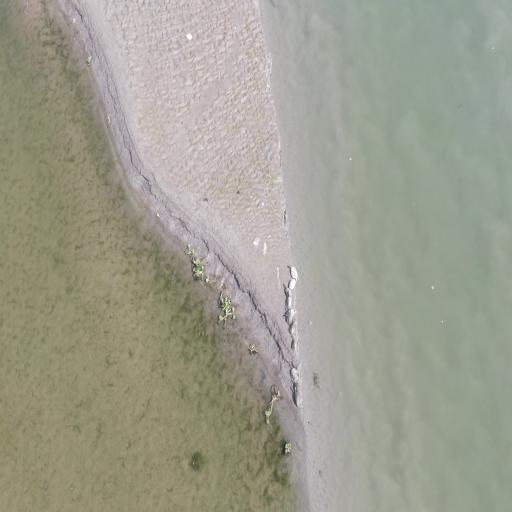turtle: (292, 386, 300, 408), (290, 263, 300, 280), (286, 305, 294, 325), (289, 365, 301, 378), (289, 274, 297, 293), (291, 332, 298, 352), (284, 282, 293, 296), (288, 320, 297, 334), (286, 290, 292, 309), (292, 379, 302, 390)
